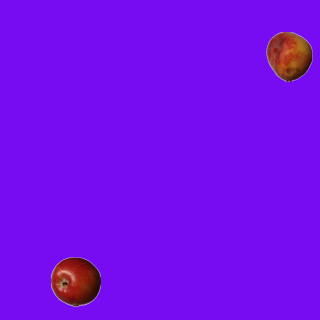Apple Braeburn: (50, 256, 100, 306)
Peach: (264, 31, 314, 81)
